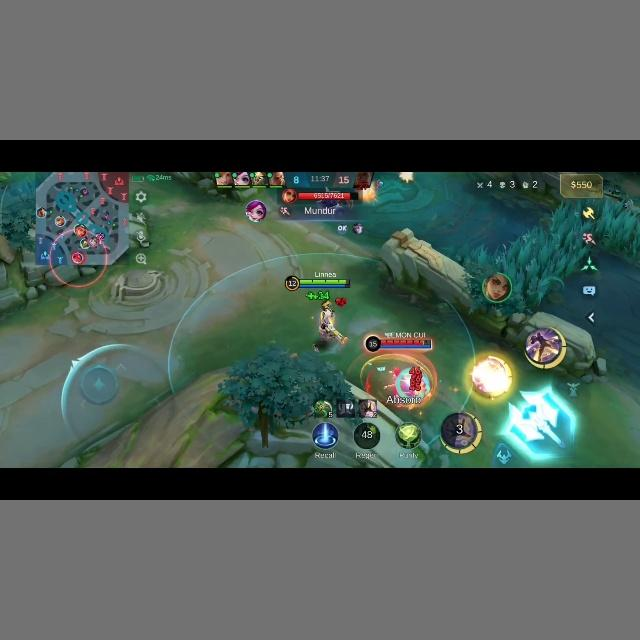hp_enemy: (362, 334, 436, 353), (301, 190, 352, 198)
hp_self: (296, 278, 349, 287)
